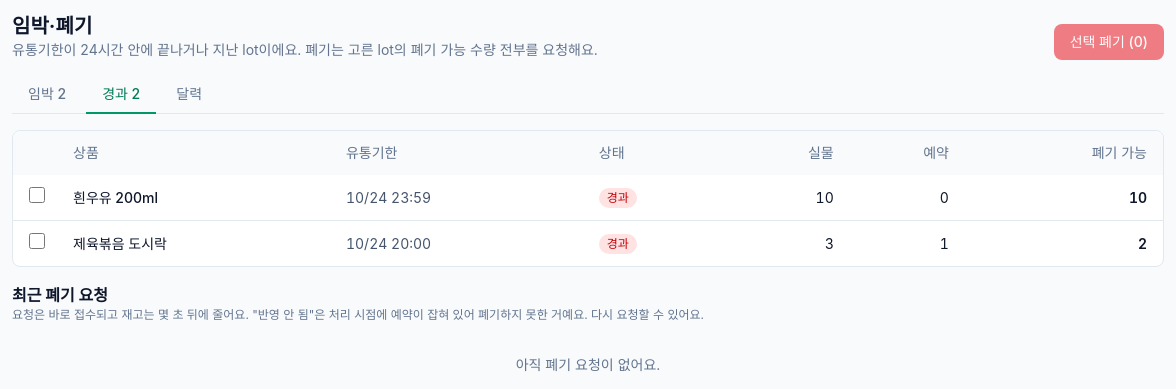
유통기한 관리 (S-30·S-32) › 고른 lot 이 없으면 선택 폐기 버튼이 꺼져 있고, 고르면 개수와 함께 켜진다
Expected: the text "흰우유 200ml" is shown, [61,175,334,220]
Expected: the button "선택 폐기 (0)" is disabled, [1054,24,1164,60]
Step 1. Click the checkbox named "흰우유 200ml 선택" → (37, 195), box [29,187,45,203]
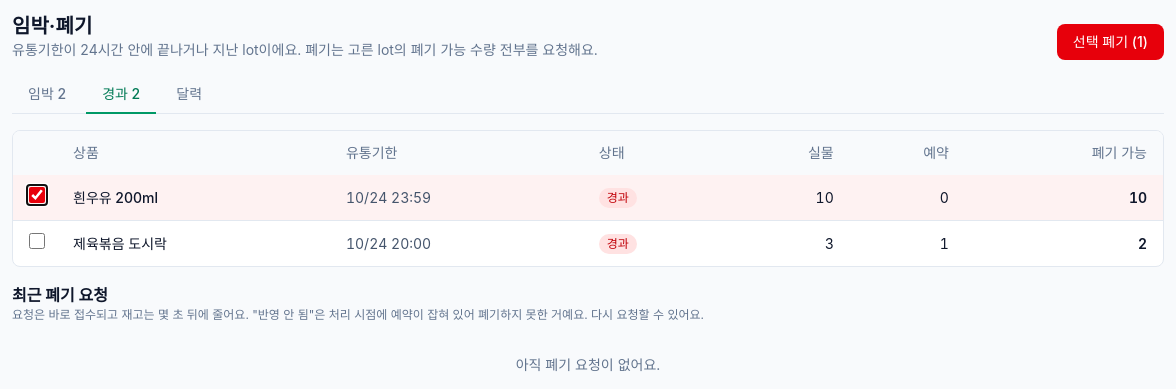
Expected: the button "선택 폐기 (1)" is enabled, [1057,24,1164,60]
Expected: the button "선택 폐기 (1)" is shown, [1057,24,1164,60]
